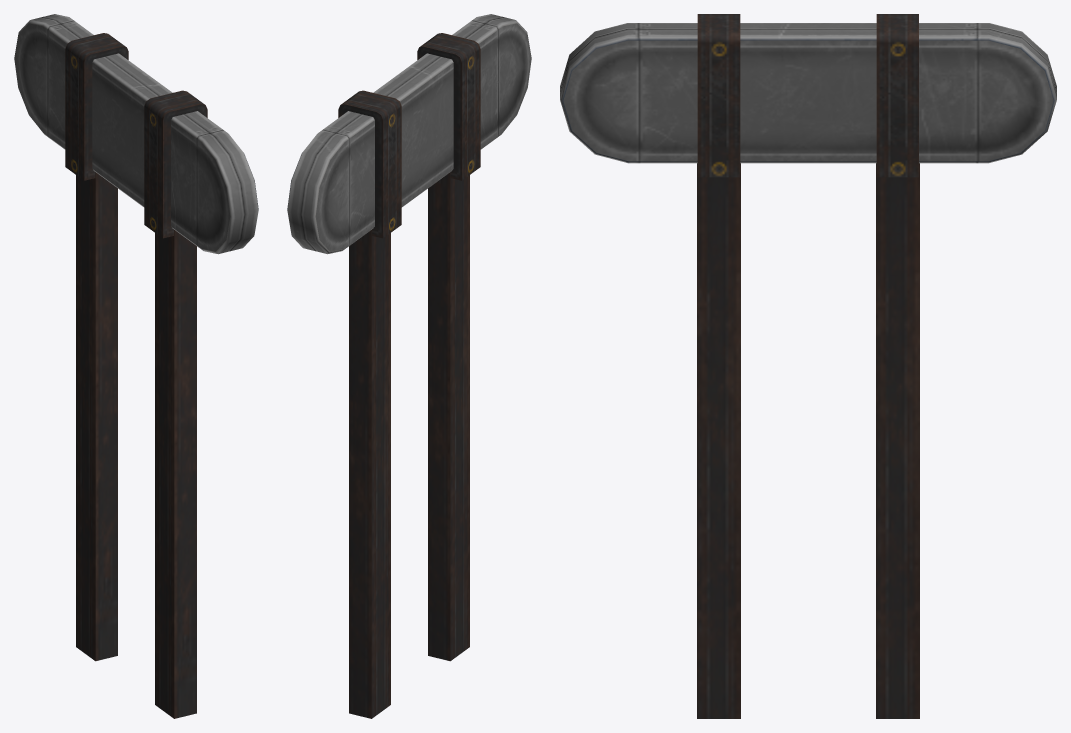
File: PIpe3_Connect1B_L0.fbx
3 renders of one model, left to right at view 1: azimuth 30°, elevation 25°; view 2: azimuth 150°, elevation 25°; view 3: azimuth 270°, elevation 25°, orthographic. The views are drawn at different scales.
Visible parts, largest first — view 1: PIpe3_Connect1B_L0; view 2: PIpe3_Connect1B_L0; view 3: PIpe3_Connect1B_L0.
Part boxes in pixels (<box>): PIpe3_Connect1B_L0: <box>14,14,258,718</box>; PIpe3_Connect1B_L0: <box>287,14,531,718</box>; PIpe3_Connect1B_L0: <box>560,14,1056,718</box>.
Size of the model in its own units: 5.45 by 70.92 by 46.32.
